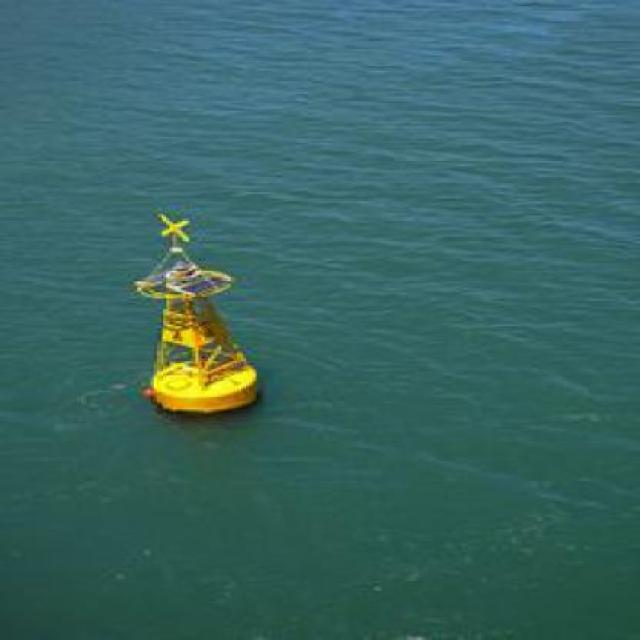a: (107, 197, 289, 413)
